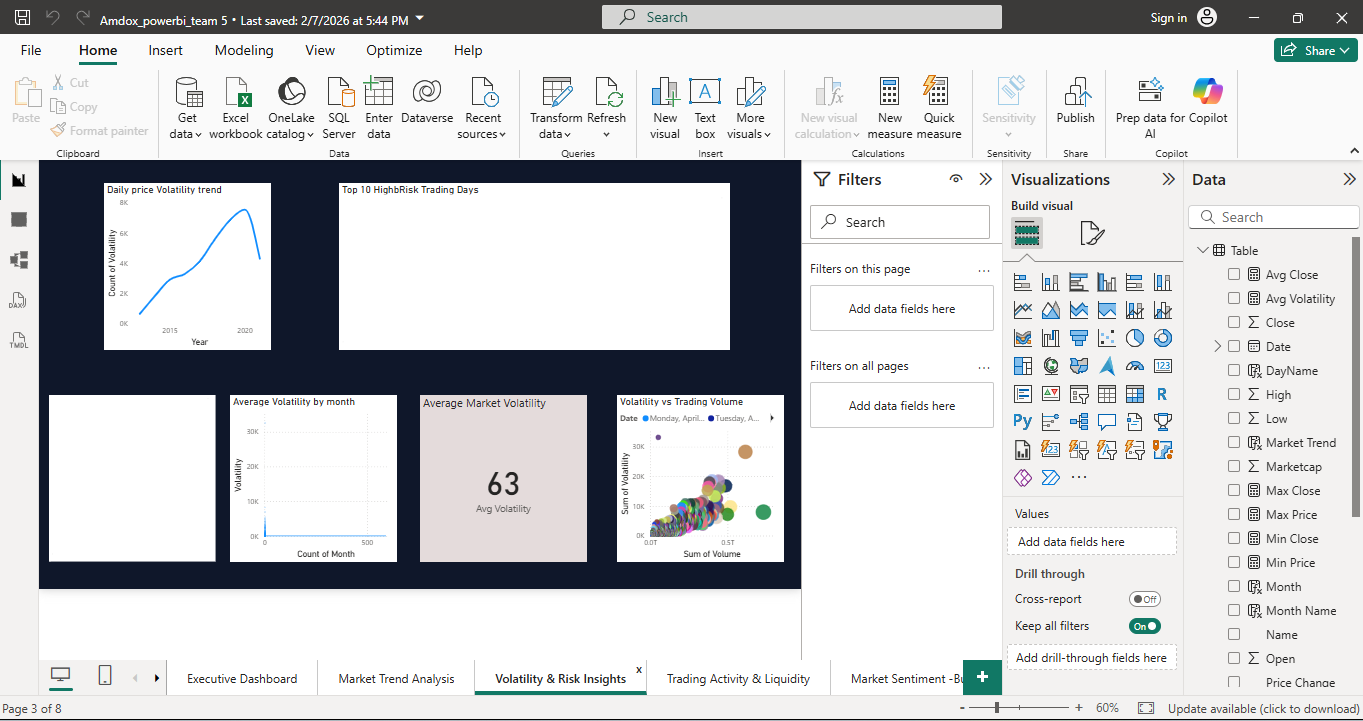

Layout of this report page (visuals, bound fields, positions):
{"tool":"powerbi","page":{"name":"Volatility & Risk Insights","canvas":[1280,720],"ordinal":2},"visuals":[{"type":"lineChart","title":"Daily price Volatility trend","fields":{"Category":["Table.Date.Variation.Date Hierarchy.Year","Table.Date.Variation.Date Hierarchy.Quarter","Table.Date.Variation.Date Hierarchy.Month","Table.Date.Variation.Date Hierarchy.Day"],"Y":["CountNonNull(Table.Volatility)"]},"box":[109.6,37.8,279.7,279.7],"z":0},{"type":"clusteredBarChart","title":"Average  Volatility by month","fields":{"Y":["CountNonNull(Table.Month)"],"Category":["Table.Volatility"]},"box":[321.3,395,279.7,279.7],"z":1},{"type":"pivotTable","fields":{"Rows":["Table.Month"],"Columns":["Table.DayName"],"Values":["Avg(Table.Volatility)"]},"box":[17,395,279.7,279.7],"z":2},{"type":"scatterChart","title":"Volatility vs Trading Volume","fields":{"X":["Sum(Table.Volume)"],"Y":["Sum(Table.Volatility)"],"Size":["Sum(Table.Volume)"],"Series":["Table.Date"]},"box":[971.3,395,279.7,279.7],"z":3},{"type":"card","title":"Average Market Volatility","fields":{"Values":["Table.Avg Volatility"]},"box":[640.6,395,279.7,279.7],"z":4},{"type":"tableEx","title":"Top 10 HighbRisk Trading Days","fields":{"Values":["Sum(Table.Volatility)","Table.Date","Sum(Table.Volume)"]},"box":[504.6,37.8,655.8,279.7],"z":5}]}

Visuals, with their boxes on the page's 1280x720 design canvas (x1, y1, x2, y2). These are canvas units, not pixel positions in the 1363x721 screenshot, which may show the page scaled, cropped or inside an application window:
"Daily price Volatility trend" lineChart: locate(110, 38, 389, 318)
"Average  Volatility by month" clusteredBarChart: locate(321, 395, 601, 675)
pivotTable - Table.Month x Table.DayName: locate(17, 395, 297, 675)
"Volatility vs Trading Volume" scatterChart: locate(971, 395, 1251, 675)
"Average Market Volatility" card: locate(641, 395, 920, 675)
"Top 10 HighbRisk Trading Days" tableEx: locate(505, 38, 1160, 318)
